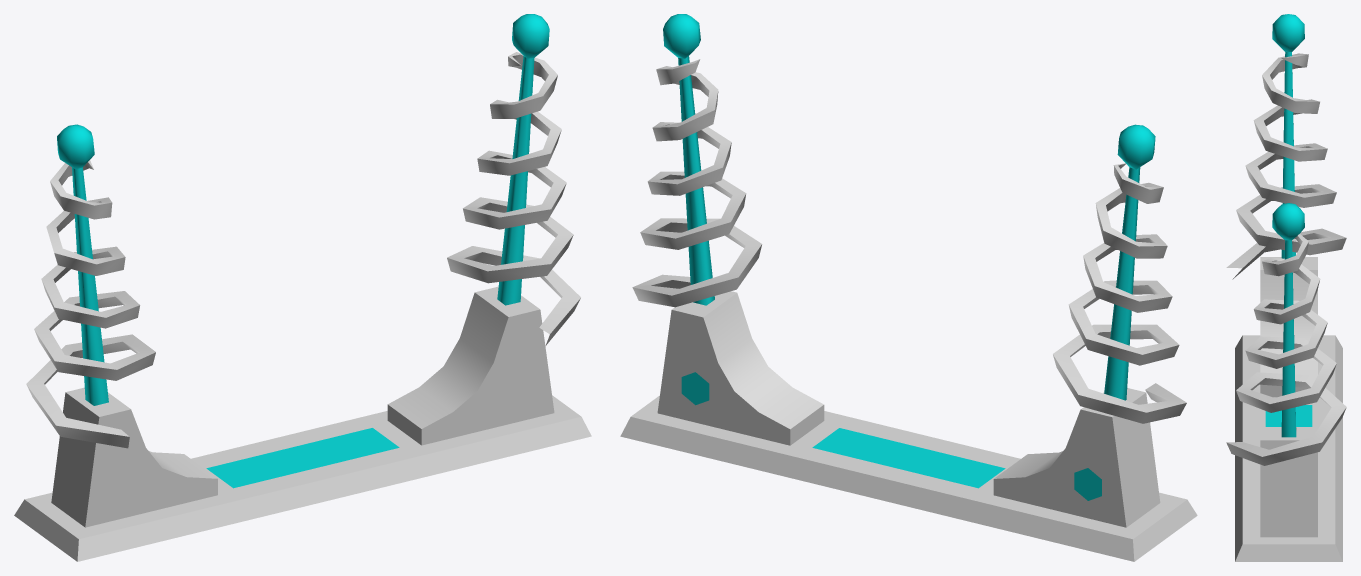
File: obstacle-portal_poles_small_NoAtlas.glb
3 views of the same model, side by side, from view 1: azimuth 30°, elevation 25°; view 2: azimuth 150°, elevation 25°; view 3: azimuth 270°, elevation 25° (orthographic). The views are drawn at different scales.
Visible parts, largest first — view 1: obstacle-portal_poles_small; view 2: obstacle-portal_poles_small; view 3: obstacle-portal_poles_small.
Boxes of the visible parts, x1,y1,x2,y2 form: obstacle-portal_poles_small: [14, 14, 591, 561]; obstacle-portal_poles_small: [620, 14, 1197, 561]; obstacle-portal_poles_small: [1226, 14, 1346, 561].
Size of the model in its own units: 3.06 by 2.26 by 0.7151.
